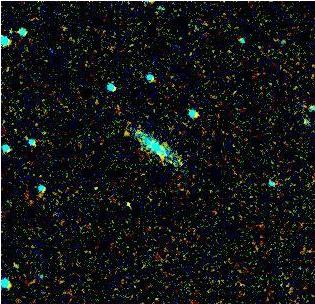star: (110, 118, 140, 148)
